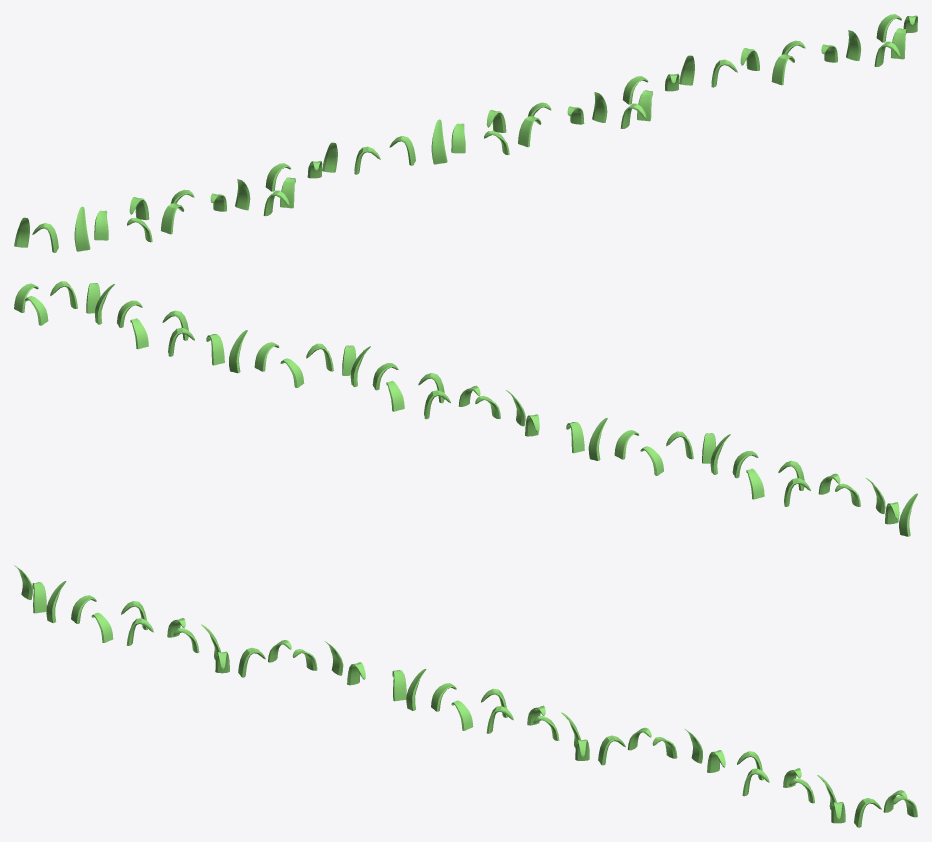
Rendered from Crass.fbx.
The picture shows the model from 3 angles, top to bottom: view 1: azimuth 30°, elevation 25°; view 2: azimuth 150°, elevation 25°; view 3: azimuth 330°, elevation 25°; orthographic projection.
Visible parts, largest first — view 1: Crass; view 2: Crass; view 3: Crass.
Part boxes in pixels (box(x1,y1,x2,y2)): Crass: box(14, 14, 917, 252); Crass: box(14, 281, 917, 536); Crass: box(14, 565, 917, 827).
Bounding box in the file's own units: 9.85 × 0.3934 × 0.7364.
